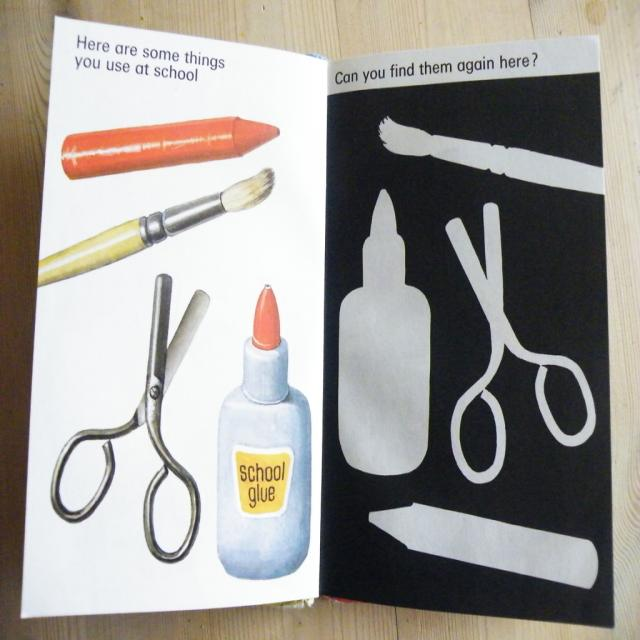scissors: (431, 196, 600, 485), (50, 272, 210, 562)
